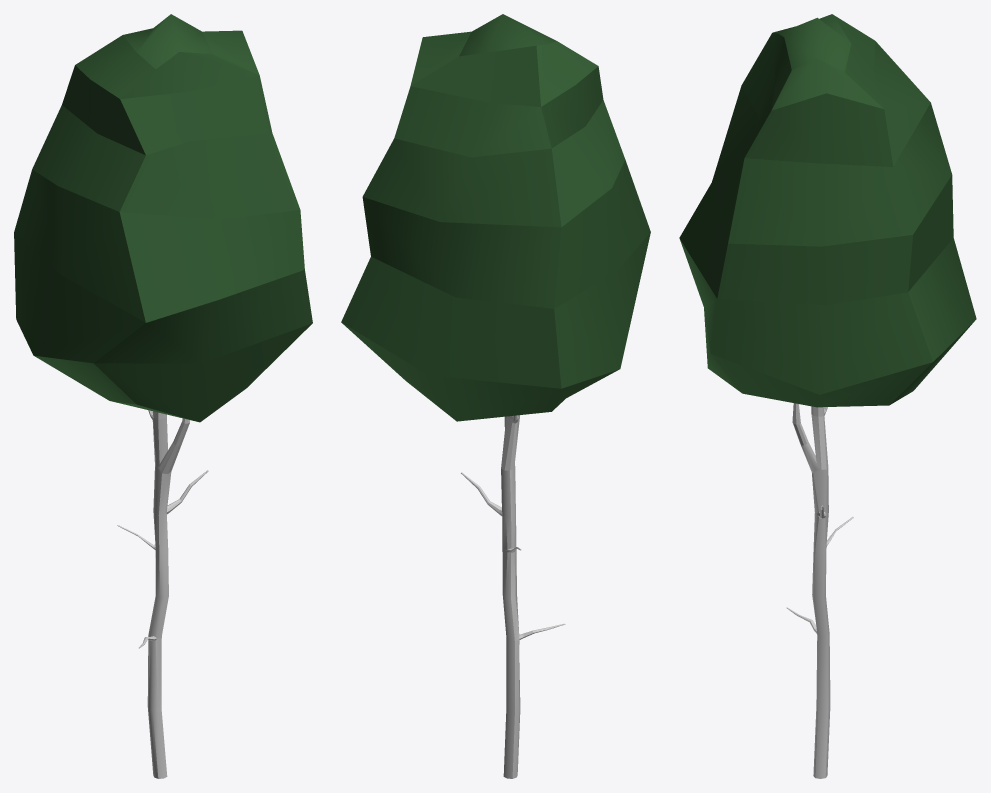
The model's file is birch.fbx.
The picture shows the model from 3 angles, left to right: view 1: azimuth 30°, elevation 25°; view 2: azimuth 150°, elevation 25°; view 3: azimuth 270°, elevation 25°; orthographic projection.
Visible parts, largest first — view 1: birch_GEO; view 2: birch_GEO; view 3: birch_GEO.
Part boxes in pixels (x1,y1,x2,y2): birch_GEO: (14,14,312,778); birch_GEO: (341,14,650,778); birch_GEO: (679,14,976,778).
Bounding box in the file's own units: 362 × 1063 × 376.
